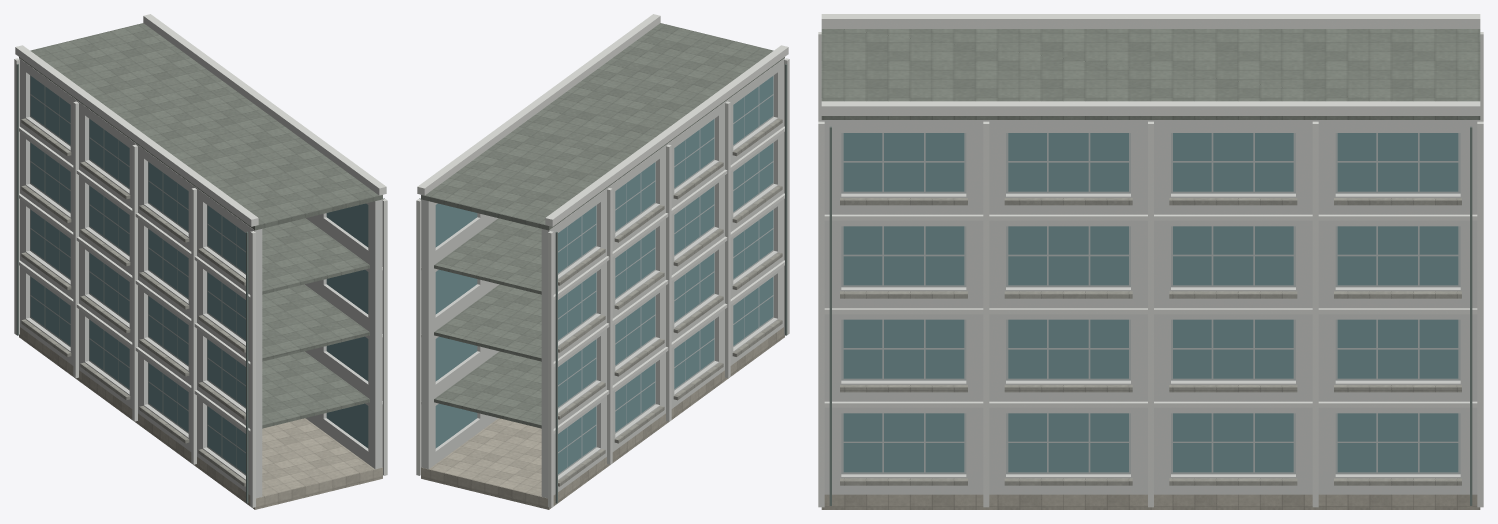
3 views of the same model, side by side, from view 1: azimuth 30°, elevation 25°; view 2: azimuth 150°, elevation 25°; view 3: azimuth 270°, elevation 25° (orthographic). The views are drawn at different scales.
Visible parts, largest first — view 1: connector__roof, connector__wall, connector__sideglass, connector__trim, connector__stone, connector__sill, connector__frame, connector__steel; view 2: connector__roof, connector__wall, connector__sideglass, connector__trim, connector__stone, connector__sill, connector__frame, connector__steel; view 3: connector__sideglass, connector__wall, connector__roof, connector__trim, connector__frame, connector__sill, connector__stone, connector__steel.
Part boxes in pixels (x1,y1,x2,y2): connector__roof: (19,23,382,428); connector__wall: (19,58,382,498); connector__sideglass: (30,76,368,473); connector__trim: (14,14,387,507); connector__stone: (19,327,382,509); connector__sill: (21,118,245,486); connector__frame: (30,75,245,475); connector__steel: (16,64,384,503); connector__roof: (421,23,784,428); connector__wall: (421,58,784,498); connector__sideglass: (435,76,773,473); connector__trim: (416,14,789,507); connector__stone: (421,327,784,509); connector__sill: (558,118,782,486); connector__frame: (558,75,773,475); connector__steel: (419,64,787,503); connector__sideglass: (843,133,1458,472); connector__wall: (822,120,1479,494); connector__roof: (821,29,1480,119); connector__trim: (818,14,1483,507); connector__frame: (841,133,1460,474); connector__sill: (840,198,1461,485); connector__stone: (821,494,1480,509); connector__steel: (829,126,1472,505).
Bounding box in the file's own units: 7.14 × 14.35 × 21.28.
Materials: 8 (5 with a texture image).
